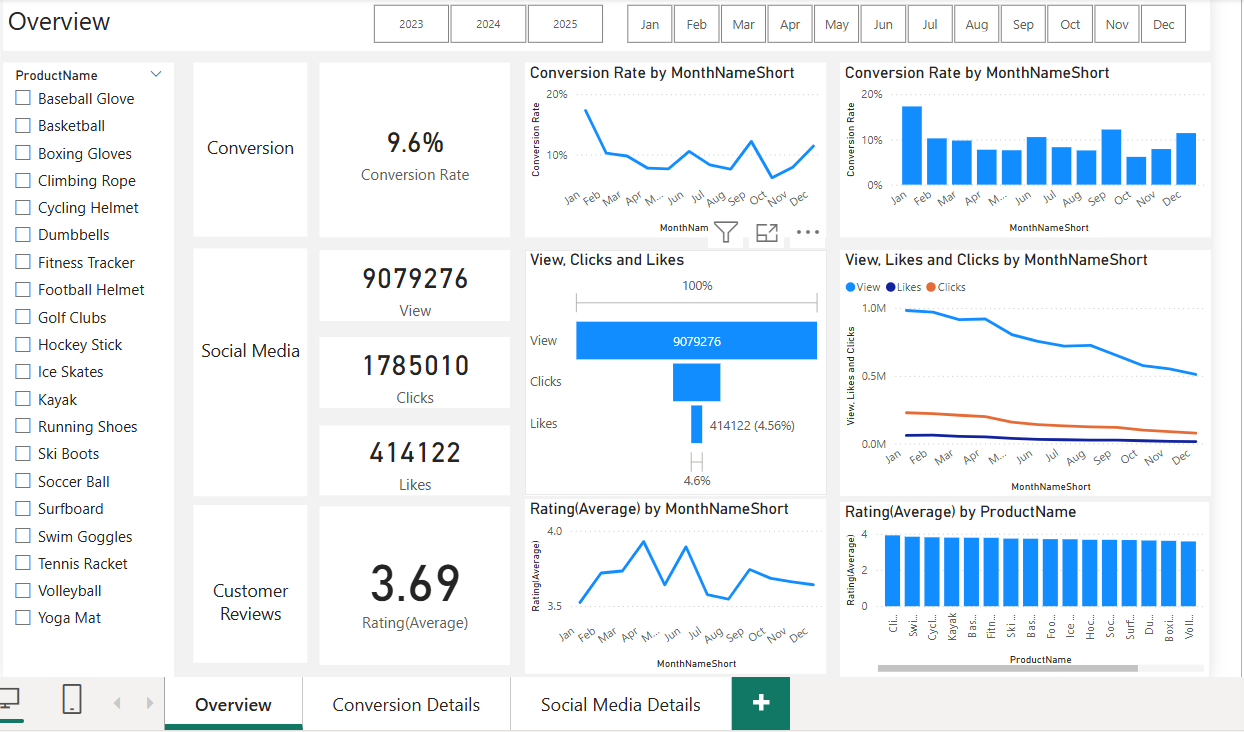

What the dashboard file says about the page in this screenshot:
{"tool":"powerbi","page":{"name":"Overview","canvas":[1280,720],"ordinal":0},"visuals":[{"type":"textbox","box":[0,0,1280,55.7],"z":0},{"type":"slicer","fields":{"Values":["dim_products.ProductName"]},"box":[0,68.4,181.3,652.2],"z":1000},{"type":"textbox","box":[202,68.4,120.9,184.5],"z":2000},{"type":"textbox","box":[202,265.6,120.9,262.5],"z":3000},{"type":"textbox","box":[202,537.6,120.9,167],"z":4000},{"type":"card","fields":{"Values":["_Calculations.Conversion Rate"]},"box":[336.4,68,202.2,185.2],"z":5000},{"type":"card","fields":{"Values":["_Calculations.View"]},"box":[336.4,266.5,202.2,75.6],"z":6000},{"type":"card","fields":{"Values":["_Calculations.Clicks"]},"box":[336.4,359.1,202.2,75.6],"z":7000},{"type":"card","fields":{"Values":["_Calculations.Likes"]},"box":[336.4,453.5,202.2,73.7],"z":8000},{"type":"card","fields":{"Values":["_Calculations.Rating(Average)"]},"box":[336.4,538.6,202.2,168.2],"z":9000},{"type":"slicer","fields":{"Values":["Calendar.Year"]},"box":[367.4,0,292.7,54.1],"z":10000},{"type":"slicer","fields":{"Values":["Calendar.MonthNameShort"]},"box":[636.8,0,642.1,54.1],"z":11000},{"type":"lineChart","fields":{"Y":["_Calculations.Conversion Rate"],"Category":["Calendar.MonthNameShort"]},"box":[553.7,68,319.4,185.2],"z":12000},{"type":"clusteredColumnChart","fields":{"Category":["Calendar.MonthNameShort"],"Y":["_Calculations.Conversion Rate"]},"box":[888.2,68,393.1,185.2],"z":13000},{"type":"lineChart","fields":{"Category":["Calendar.MonthNameShort"],"Y":["_Calculations.View","_Calculations.Likes","_Calculations.Clicks"]},"box":[888.2,266.5,393.1,260.8],"z":14000},{"type":"funnel","fields":{"Y":["_Calculations.View","_Calculations.Clicks","_Calculations.Likes"]},"box":[553.7,266.5,319.4,260.8],"z":15000},{"type":"lineChart","fields":{"Category":["Calendar.MonthNameShort"],"Y":["_Calculations.Rating(Average)"]},"box":[553.7,531,319.4,185.2],"z":16000},{"type":"clusteredColumnChart","fields":{"Category":["dim_products.ProductName"],"Y":["_Calculations.Rating(Average)"]},"box":[888.2,534.8,391.2,185.2],"z":17000}]}

Visuals, with their boxes on the page's 1280x720 design canvas (x1, y1, x2, y2). These are canvas units, not pixel positions in the 1244x732 screenshot, which may show the page scaled, cropped or inside an application window:
textbox: box(0, 0, 1280, 56)
slicer - dim_products.ProductName: box(0, 68, 181, 721)
textbox: box(202, 68, 323, 253)
textbox: box(202, 266, 323, 528)
textbox: box(202, 538, 323, 705)
card - _Calculations.Conversion Rate: box(336, 68, 539, 253)
card - _Calculations.View: box(336, 266, 539, 342)
card - _Calculations.Clicks: box(336, 359, 539, 435)
card - _Calculations.Likes: box(336, 454, 539, 527)
card - _Calculations.Rating(Average): box(336, 539, 539, 707)
slicer - Calendar.Year: box(367, 0, 660, 54)
slicer - Calendar.MonthNameShort: box(637, 0, 1279, 54)
lineChart - _Calculations.Conversion Rate x Calendar.MonthNameShort: box(554, 68, 873, 253)
clusteredColumnChart - Calendar.MonthNameShort x _Calculations.Conversion Rate: box(888, 68, 1281, 253)
lineChart - Calendar.MonthNameShort x _Calculations.View: box(888, 266, 1281, 527)
funnel - _Calculations.View x _Calculations.Clicks: box(554, 266, 873, 527)
lineChart - Calendar.MonthNameShort x _Calculations.Rating(Average): box(554, 531, 873, 716)
clusteredColumnChart - dim_products.ProductName x _Calculations.Rating(Average): box(888, 535, 1279, 720)
